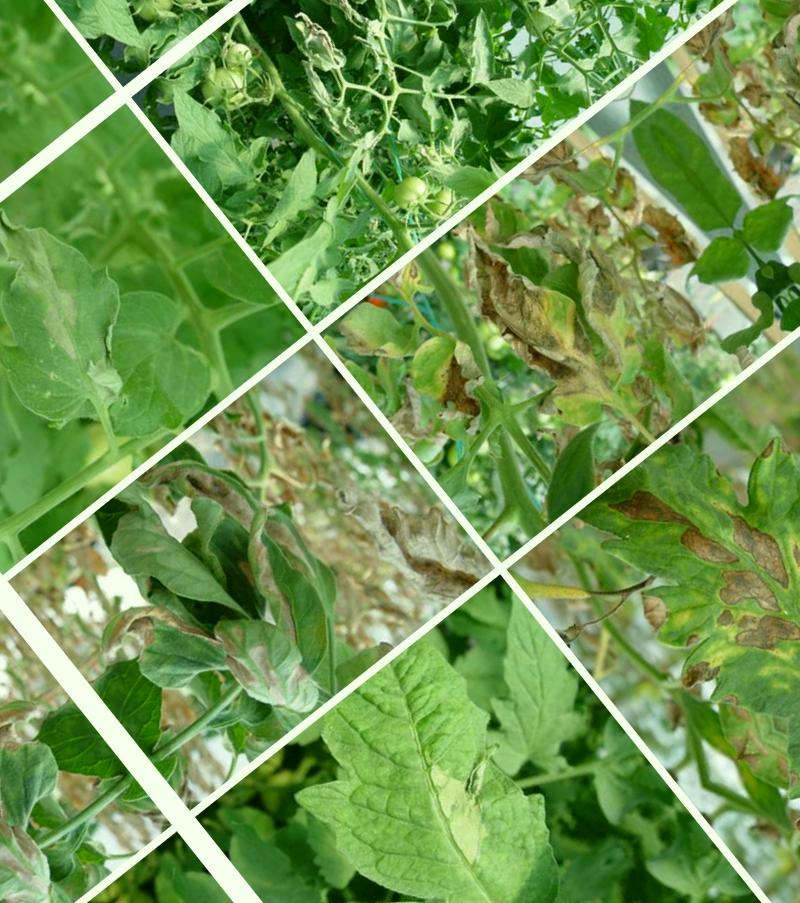Tomato leaf bacterial spot: (568, 383, 800, 750)
